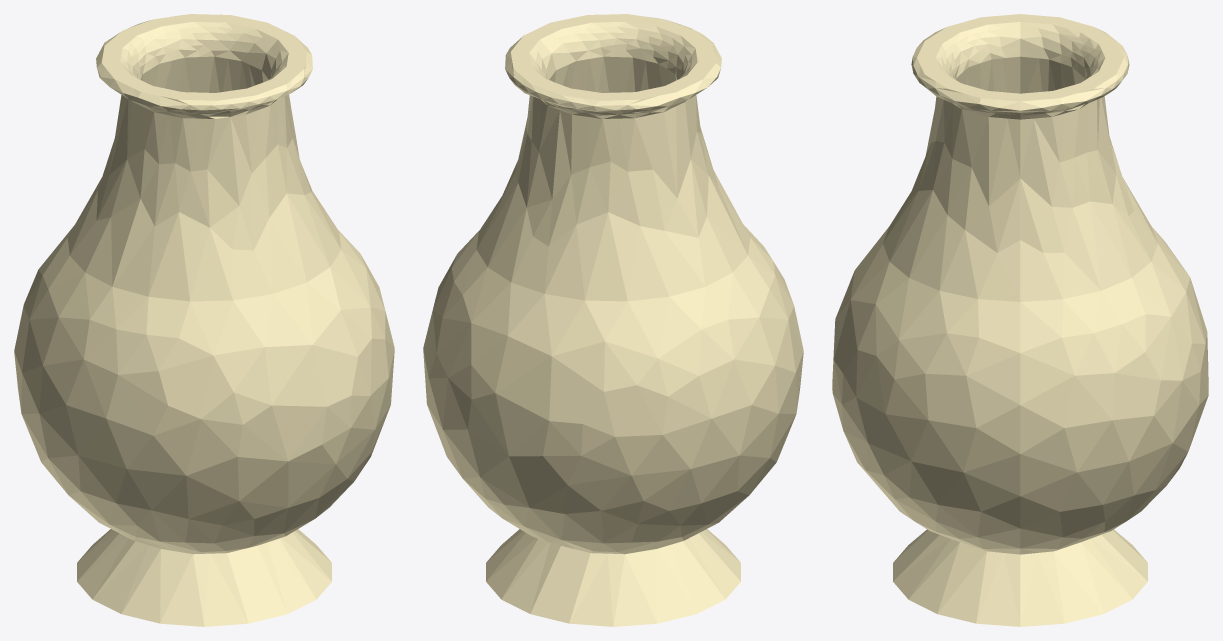
File: 3dExport_FlowerShop_Vase3.glb
3 renders of one model, left to right at view 1: azimuth 30°, elevation 25°; view 2: azimuth 150°, elevation 25°; view 3: azimuth 270°, elevation 25°, orthographic.
Parts seen in each view (by area): view 1: Revolution <1226768 Revolve<; view 2: Revolution <1226768 Revolve<; view 3: Revolution <1226768 Revolve<.
Boxes of the visible parts, x1,y1,x2,y2 form: Revolution <1226768 Revolve<: (14,14,394,626); Revolution <1226768 Revolve<: (423,14,803,626); Revolution <1226768 Revolve<: (832,14,1208,626).
Bounding box in the file's own units: 0.9947 × 1.48 × 0.9828.
